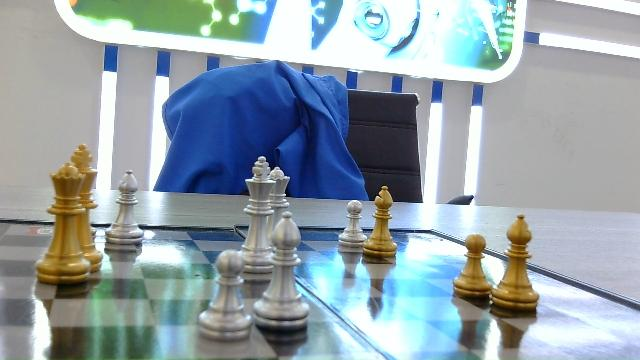black_bishop: (490, 212, 542, 311), (360, 185, 399, 259)
black_king: (81, 140, 105, 272)
black_pawn: (452, 232, 493, 300)
black_queen: (42, 172, 87, 284)
white_bishop: (266, 211, 307, 330), (107, 168, 146, 248)
white_king: (243, 154, 270, 251)
white_pawn: (202, 248, 247, 341), (337, 199, 365, 248)
white_queen: (270, 165, 291, 208)
